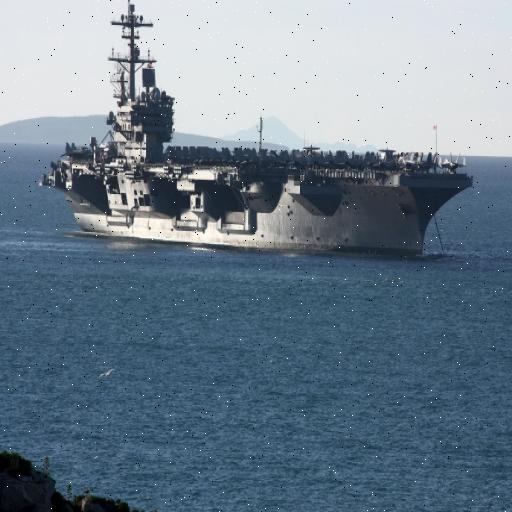Portanaves: (35, 1, 480, 257)
